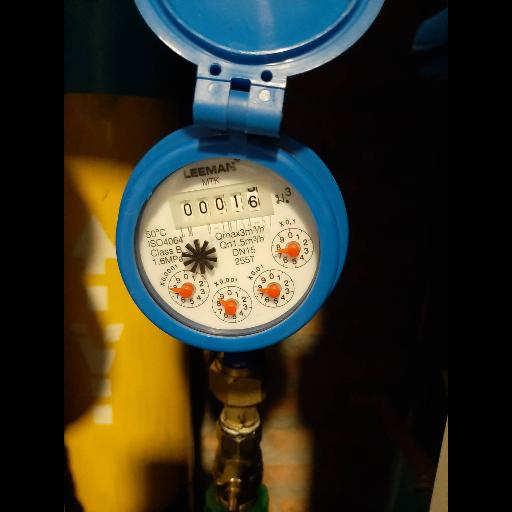0: (212, 193, 228, 216), (180, 199, 196, 220), (197, 197, 212, 218)
1: (230, 191, 245, 213)
6: (243, 185, 263, 214)
border_water_meter_number: (168, 178, 275, 232)
